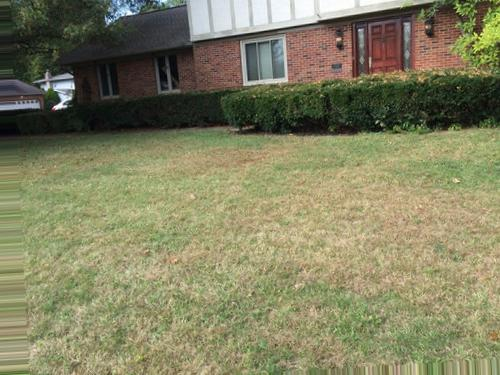patch: (262, 213, 362, 270), (386, 181, 449, 260)
